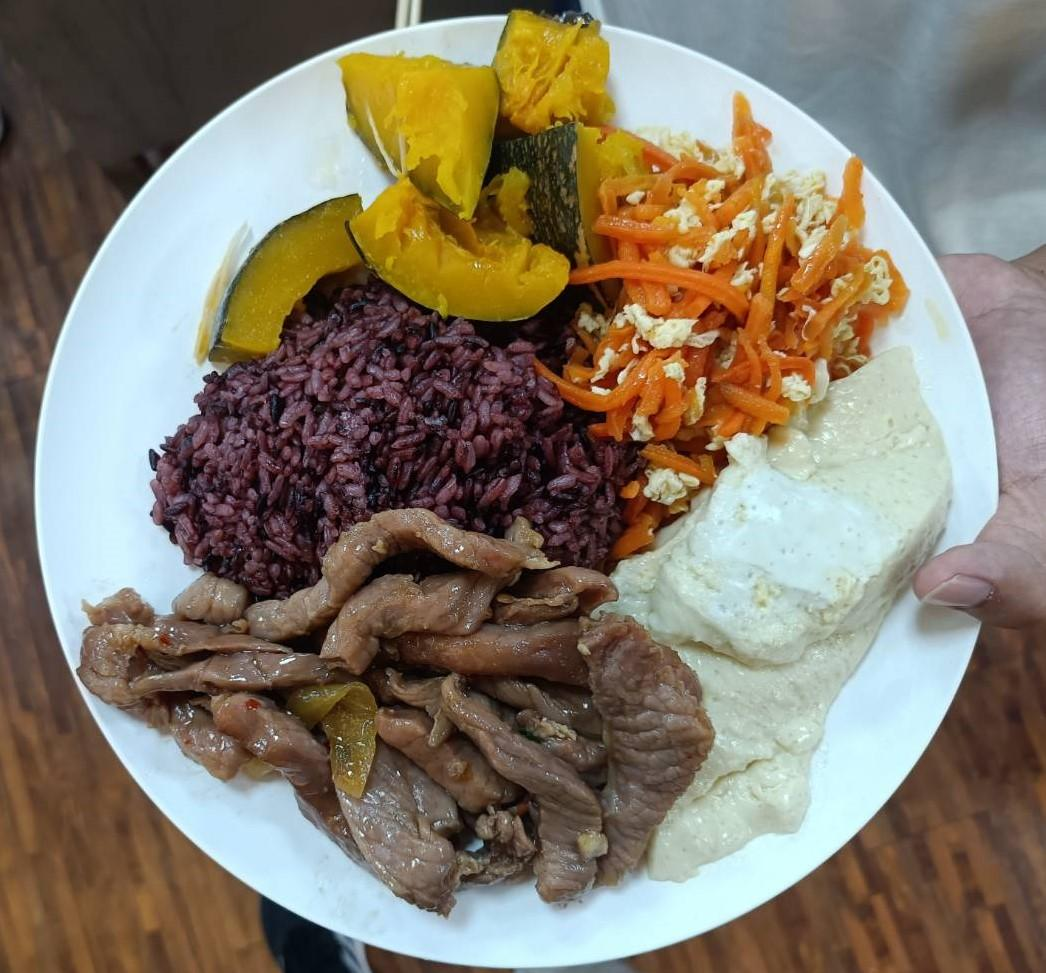big fried chicken leg: (26, 12, 1012, 973)
braised fish: (152, 282, 618, 595)
braised fish fillet: (602, 344, 956, 885), (195, 16, 654, 379), (579, 107, 913, 530)
braised pork: (70, 494, 706, 918)
